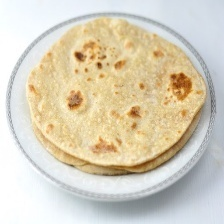roti: (22, 15, 208, 178)
